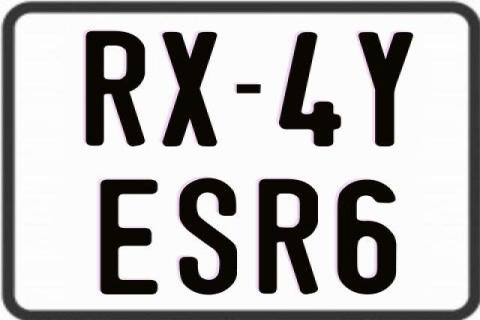0: (278, 32, 344, 146), (336, 180, 395, 296)
E: (100, 177, 161, 293)
R: (256, 177, 321, 293), (85, 31, 149, 147)
S: (176, 177, 238, 295)
X: (162, 31, 218, 145)
Y: (357, 30, 412, 150)
